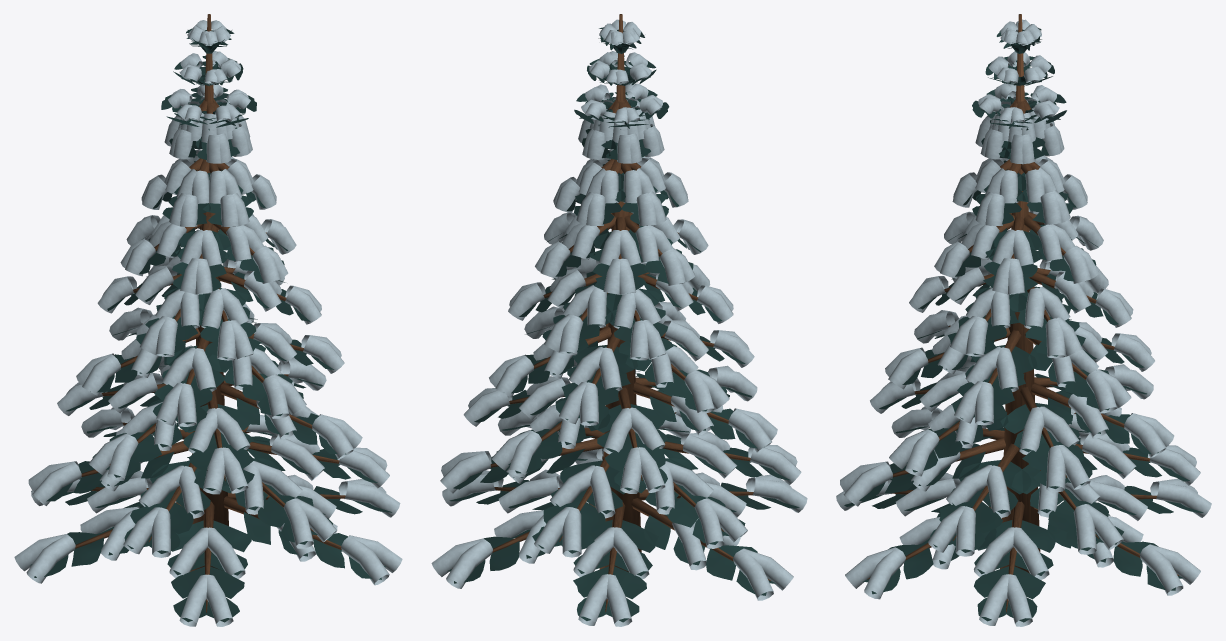
The model's file is prop_fir_0.glb.
3 renders of one model, left to right at view 1: azimuth 30°, elevation 25°; view 2: azimuth 150°, elevation 25°; view 3: azimuth 270°, elevation 25°, orthographic.
Visible parts, largest first — view 1: Soft_windblown_snow, Fir_needles, Old_oak; view 2: Soft_windblown_snow, Fir_needles, Old_oak; view 3: Soft_windblown_snow, Fir_needles, Old_oak.
Boxes of the visible parts, x1,y1,x2,y2 form: Soft_windblown_snow: [14, 20, 402, 626]; Fir_needles: [30, 28, 391, 622]; Old_oak: [75, 14, 345, 612]; Soft_windblown_snow: [431, 19, 807, 626]; Fir_needles: [447, 27, 799, 622]; Old_oak: [452, 14, 770, 612]; Soft_windblown_snow: [836, 19, 1211, 626]; Fir_needles: [844, 27, 1203, 622]; Old_oak: [867, 14, 1179, 612].
Size of the model in its own units: 3.74 by 5.8 by 3.45.
3 materials, 3 textured.
